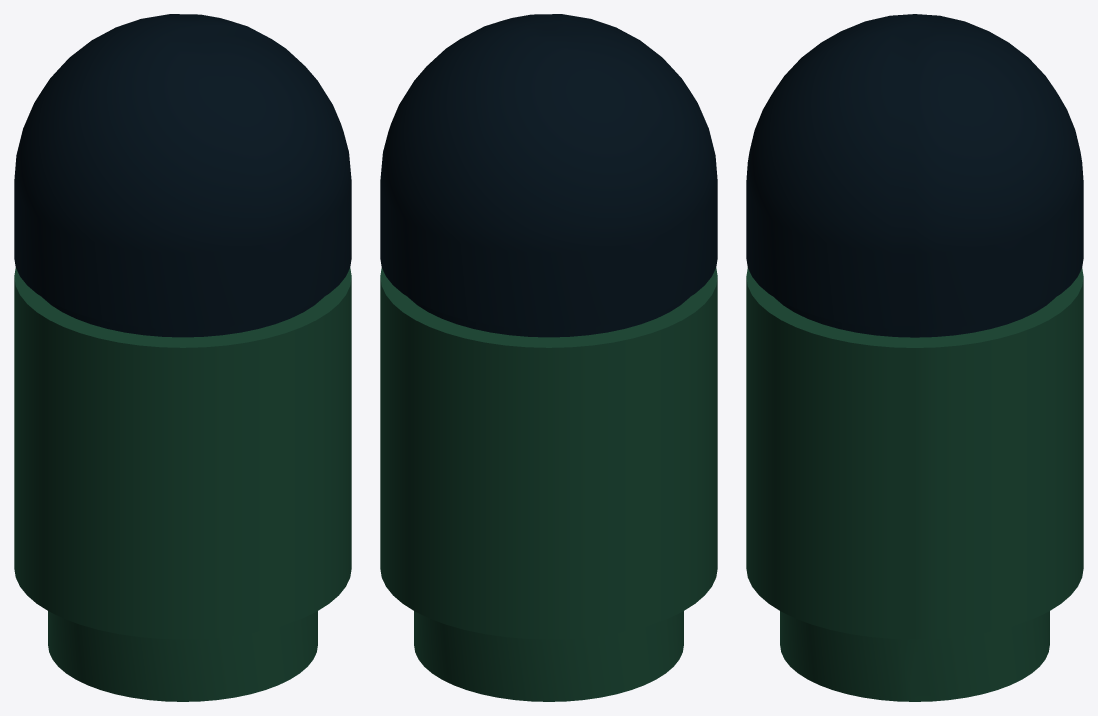
Rendered from grenade.dae.
3 renders of one model, left to right at view 1: azimuth 30°, elevation 25°; view 2: azimuth 150°, elevation 25°; view 3: azimuth 270°, elevation 25°, orthographic.
Parts seen in each view (by area): view 1: Inner-Node-grenade_dot_io-0, Inner-Node-grenade_dot_io-1; view 2: Inner-Node-grenade_dot_io-0, Inner-Node-grenade_dot_io-1; view 3: Inner-Node-grenade_dot_io-0, Inner-Node-grenade_dot_io-1.
Boxes of the visible parts, <box> form: Inner-Node-grenade_dot_io-0: <box>14,268,351,701</box>; Inner-Node-grenade_dot_io-1: <box>14,14,351,337</box>; Inner-Node-grenade_dot_io-0: <box>380,268,717,701</box>; Inner-Node-grenade_dot_io-1: <box>380,14,717,337</box>; Inner-Node-grenade_dot_io-0: <box>746,268,1083,701</box>; Inner-Node-grenade_dot_io-1: <box>746,14,1083,337</box>.
Bounding box in the file's own units: 19.75 × 39.75 × 19.75.
